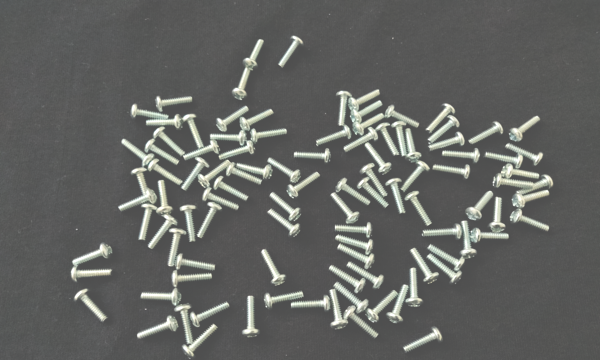shortscrew: (73, 288, 112, 324), (182, 324, 220, 360), (403, 327, 448, 356), (343, 305, 380, 340), (334, 281, 370, 315), (427, 253, 464, 286), (148, 213, 179, 249), (190, 301, 231, 328), (328, 265, 366, 294), (347, 261, 385, 290), (510, 208, 552, 234), (366, 290, 399, 323), (153, 126, 187, 158), (181, 157, 211, 193), (71, 242, 114, 267), (137, 315, 180, 340), (411, 248, 440, 285), (329, 191, 360, 225), (267, 209, 301, 240), (428, 244, 467, 271), (427, 114, 462, 144), (148, 158, 184, 187), (505, 141, 545, 167), (405, 191, 433, 228), (338, 243, 376, 270), (269, 192, 303, 222), (287, 172, 323, 200), (118, 189, 158, 214), (426, 103, 457, 135), (401, 160, 431, 193), (261, 249, 287, 287), (143, 139, 181, 165), (119, 138, 154, 166), (267, 157, 303, 184), (215, 106, 251, 133), (213, 176, 250, 202), (510, 114, 543, 143), (202, 186, 240, 211), (386, 283, 409, 324), (468, 121, 505, 146), (343, 127, 380, 152), (365, 141, 393, 174), (327, 289, 349, 330), (466, 190, 495, 221), (384, 104, 421, 128), (227, 162, 264, 186), (198, 202, 222, 239), (279, 34, 305, 68), (350, 100, 384, 126), (239, 109, 277, 132), (130, 167, 154, 203), (517, 174, 554, 197), (376, 122, 401, 156), (175, 303, 195, 345), (167, 228, 188, 268), (198, 161, 229, 188), (385, 177, 407, 215), (184, 140, 222, 162), (316, 124, 352, 147), (175, 253, 216, 273), (405, 267, 425, 308), (337, 234, 376, 255), (242, 296, 261, 339), (493, 173, 535, 192), (353, 113, 386, 137), (348, 89, 382, 112), (264, 290, 305, 309), (511, 190, 552, 209), (422, 223, 463, 242), (429, 132, 466, 153), (484, 150, 524, 169), (171, 269, 213, 287), (219, 140, 255, 161), (70, 266, 114, 283), (139, 289, 183, 306), (501, 163, 540, 182), (460, 221, 479, 260), (130, 102, 169, 121), (335, 220, 374, 239), (180, 203, 199, 242), (183, 114, 204, 149), (294, 147, 332, 166), (138, 203, 157, 241), (232, 69, 255, 100), (292, 294, 331, 312), (250, 127, 289, 145), (470, 227, 511, 244), (442, 147, 480, 165), (433, 164, 471, 182), (154, 95, 192, 113), (243, 39, 265, 70), (404, 127, 423, 162), (156, 180, 175, 215), (335, 89, 352, 127), (235, 163, 273, 180), (489, 197, 507, 232), (146, 114, 184, 130), (392, 120, 408, 157), (210, 130, 247, 146)
